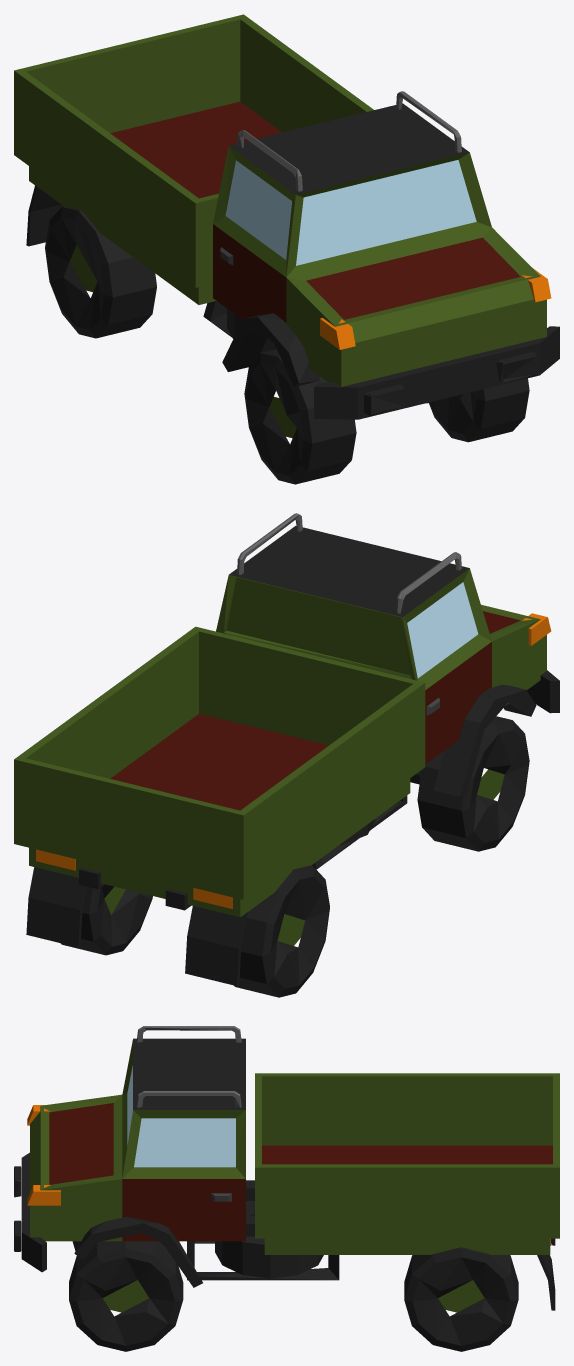
The model's file is Truck.glb.
3 renders of one model, top to bottom at view 1: azimuth 30°, elevation 25°; view 2: azimuth 150°, elevation 25°; view 3: azimuth 270°, elevation 25°, orthographic. The views are drawn at different scales.
Visible parts, largest first — view 1: Scout_Car; view 2: Scout_Car; view 3: Scout_Car.
Boxes of the visible parts, left/top/right/bottom form: Scout_Car: left=14, top=14, right=559, bottom=484; Scout_Car: left=14, top=513, right=559, bottom=997; Scout_Car: left=14, top=1026, right=559, bottom=1351.
Size of the model in its own units: 1.94 by 2.23 by 4.43.
